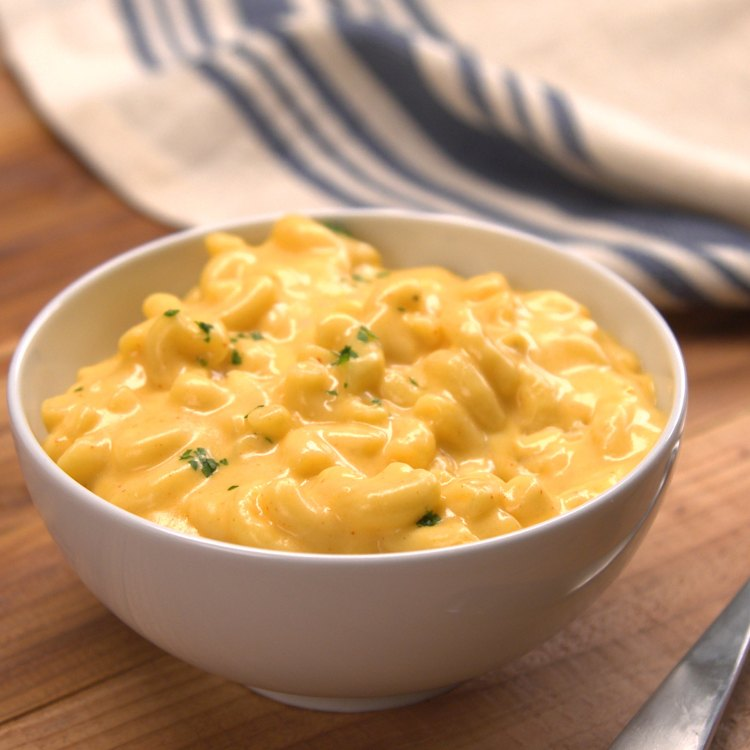macncheese: (28, 215, 664, 559)
